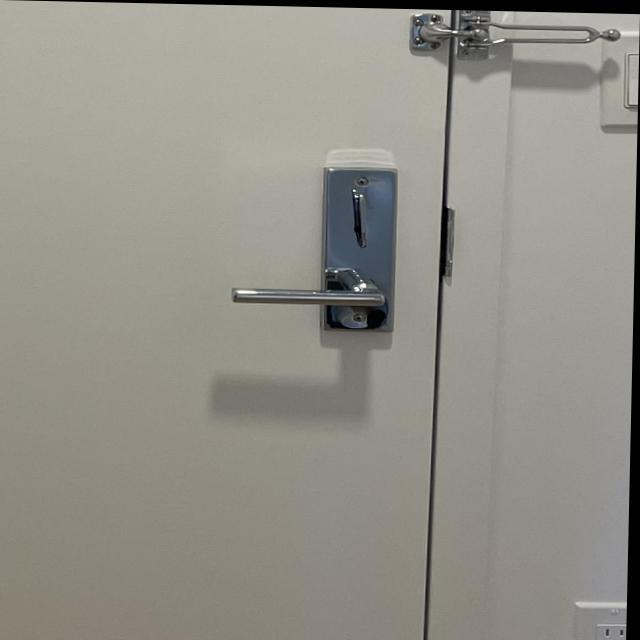door_handle: (218, 261, 401, 336)
